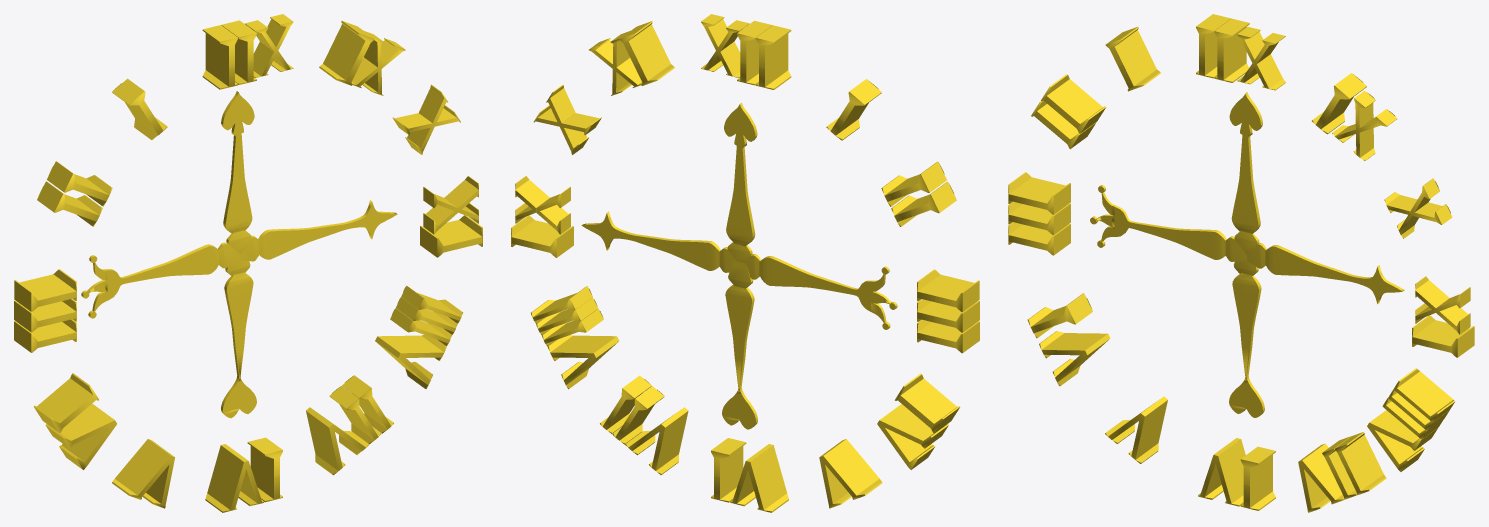
File: clock_effect1_0~20.FBX
3 views of the same model, side by side, from view 1: azimuth 30°, elevation 25°; view 2: azimuth 150°, elevation 25°; view 3: azimuth 330°, elevation 25° (orthographic).
Visible parts, largest first — view 1: heart001; view 2: heart001; view 3: heart001.
Part boxes in pixels (box(x1,y1,x2,y2)): heart001: box(14, 14, 482, 512); heart001: box(511, 14, 979, 512); heart001: box(1008, 14, 1474, 512).
Size of the model in its own units: 52.96 by 52.84 by 4.77.
